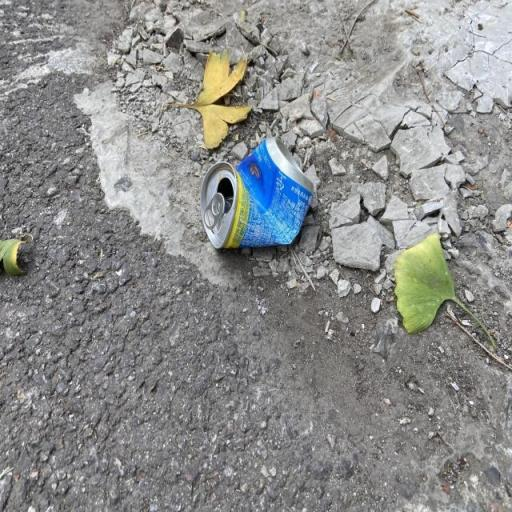metal: (184, 134, 352, 299)
